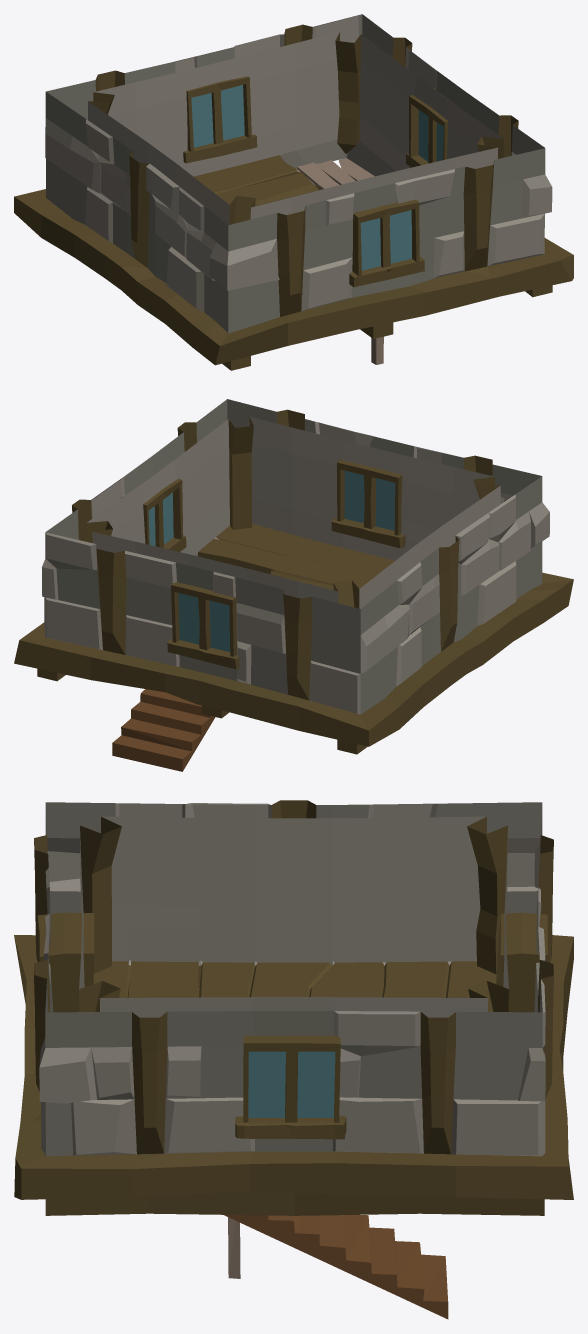
Rendered from BuildingUpperLevel.fbx.
3 views of the same model, one above another, from view 1: azimuth 30°, elevation 25°; view 2: azimuth 150°, elevation 25°; view 3: azimuth 270°, elevation 25° (orthographic). The views are drawn at different scales.
Visible parts, largest first — view 1: BuildingUpperLevel, BuildingStorey1.003, Planks; view 2: BuildingUpperLevel, BuildingStorey1.003, Stairs; view 3: BuildingUpperLevel, BuildingStorey1.003, Stairs.
Boxes of the visible parts, x1,y1,x2,y2 form: BuildingUpperLevel: (14,14,573,370); BuildingStorey1.003: (183,76,451,287); Planks: (296,158,374,189); BuildingUpperLevel: (14,399,573,754); BuildingStorey1.003: (121,459,405,669); Stairs: (112,689,215,771); BuildingUpperLevel: (14,800,573,1215); BuildingStorey1.003: (37,912,547,1139); Stairs: (224,1214,448,1319).
Bounding box in the file's own units: 17.38 × 11.21 × 17.3.
